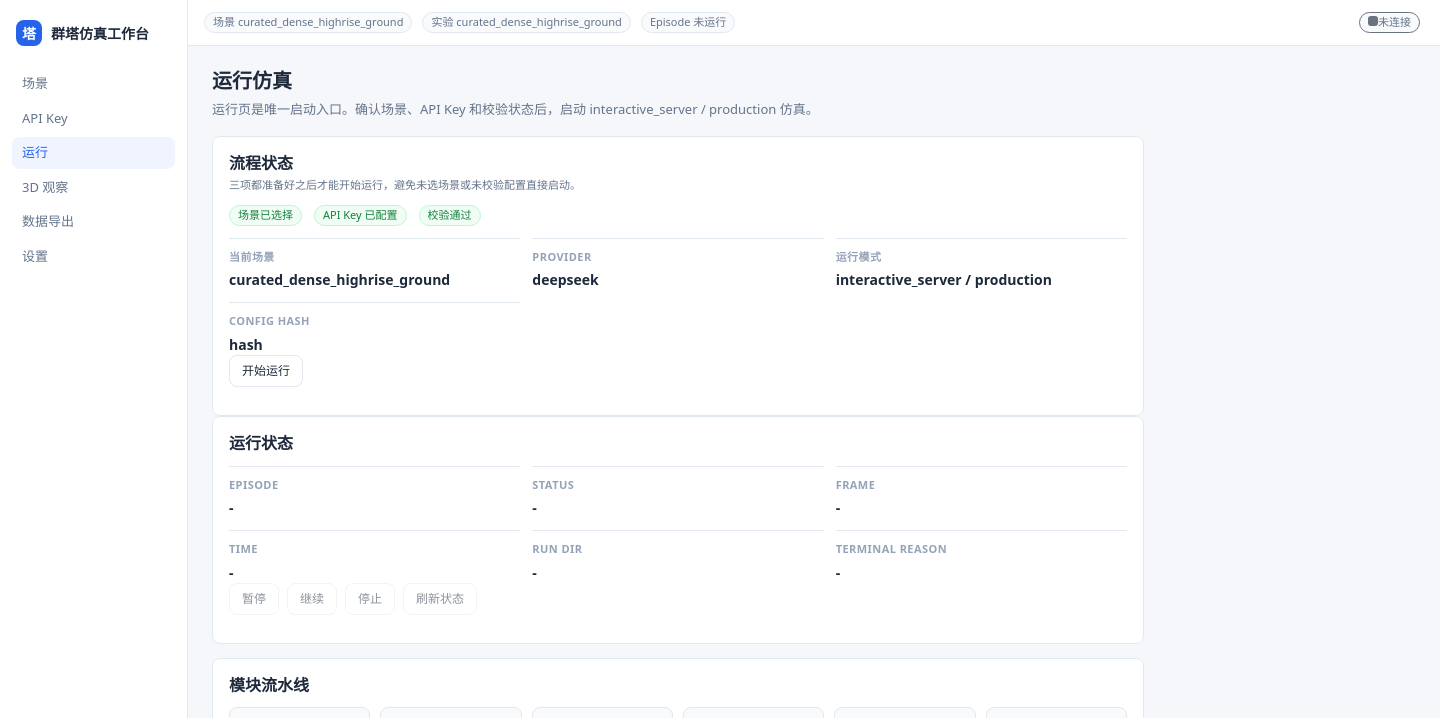
Test case: workbench run controls › starts an interactive server episode and syncs live runtime state
expect the text "API Key 已配置" is shown: met, box [314, 205, 406, 226]
Click the button "开始运行": (266, 371) [229, 355, 303, 387]
(page scrolled)
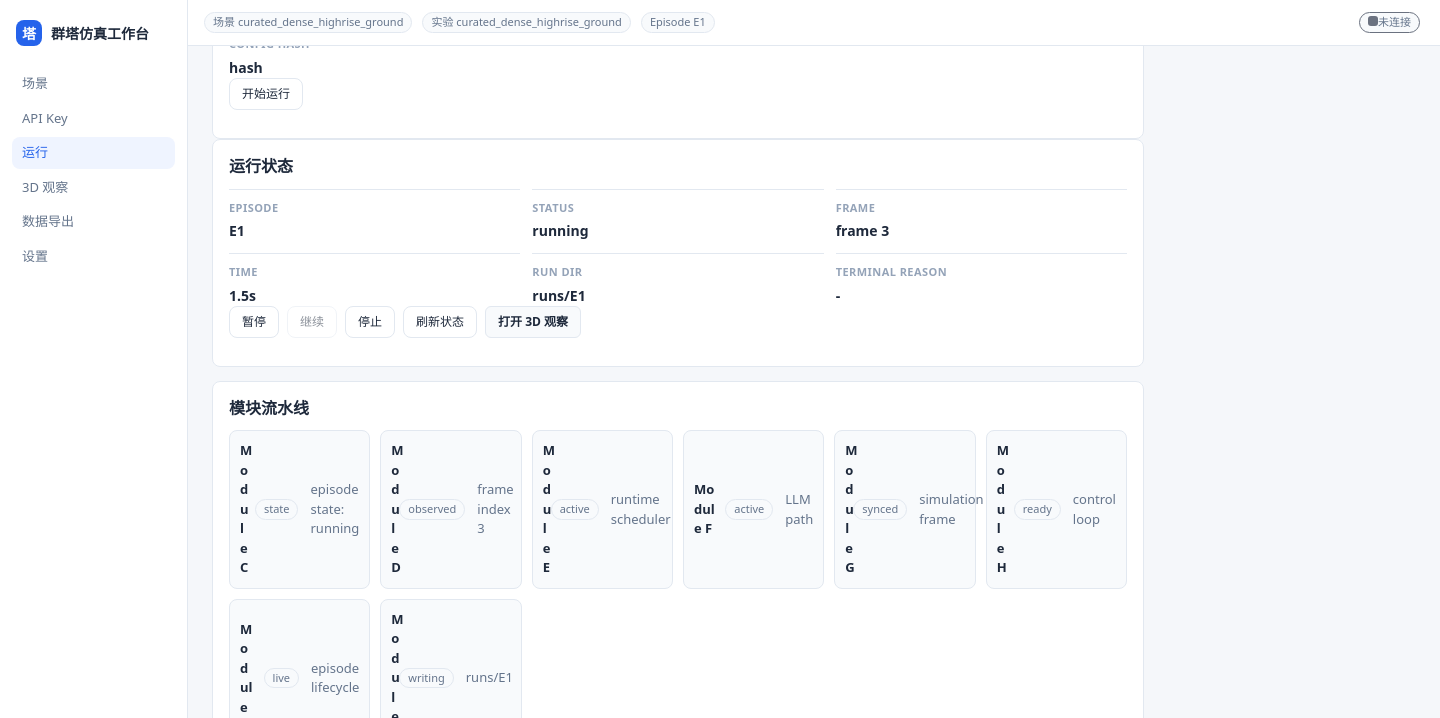
expect the text "E1" is shown: met, box [229, 221, 245, 240]
expect the text "running" is shown: met, box [532, 221, 589, 240]
expect the text "frame 3" is shown: met, box [836, 221, 889, 240]
